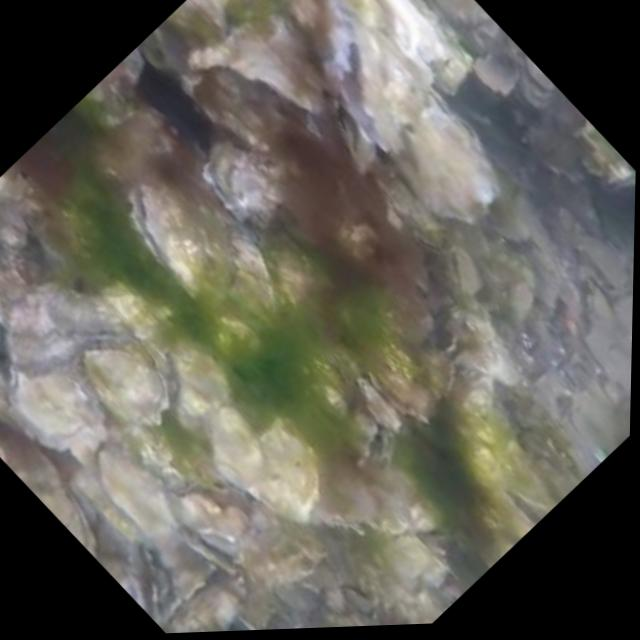Oyster-Closed: (131, 188, 274, 326), (0, 424, 102, 561), (397, 85, 496, 221), (80, 334, 172, 429), (8, 363, 89, 454), (368, 343, 451, 419), (411, 0, 475, 95), (204, 145, 280, 223), (387, 170, 446, 254), (357, 374, 400, 431), (446, 247, 483, 299), (601, 160, 636, 193)
Oyster-Indeterminate: (187, 15, 321, 104), (139, 0, 234, 74), (100, 451, 174, 545), (260, 420, 320, 522), (74, 45, 149, 126), (209, 406, 267, 488), (175, 344, 230, 429), (437, 0, 489, 23), (526, 55, 557, 90)
Oyster-Open: (328, 0, 428, 155), (331, 89, 375, 177), (0, 238, 25, 372), (348, 401, 393, 466), (501, 484, 555, 534)
